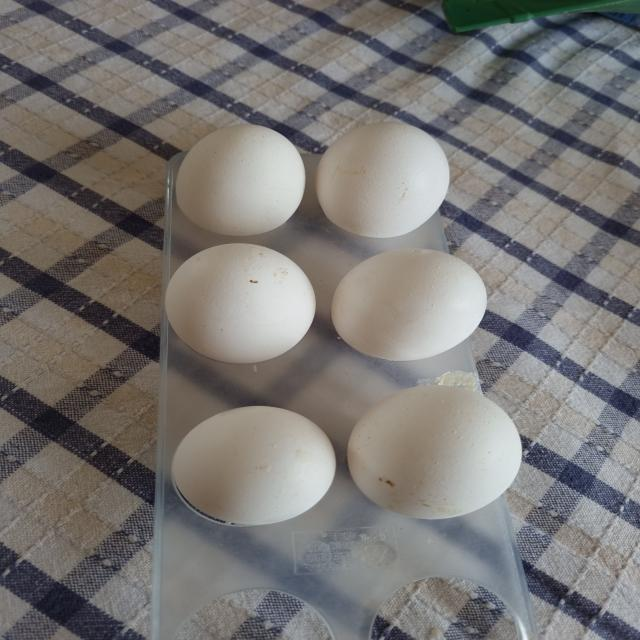Egg: (345, 382, 523, 524), (162, 124, 308, 293), (328, 248, 488, 386), (167, 406, 340, 531), (164, 242, 318, 368), (315, 119, 451, 241)
